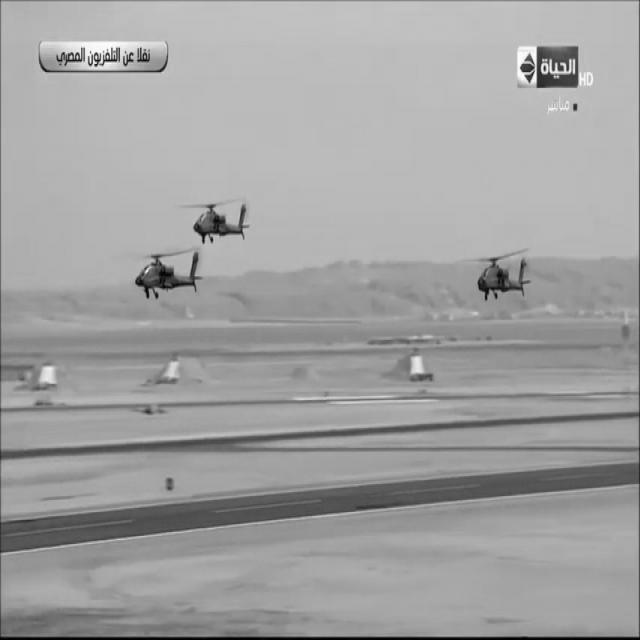helikopter: (456, 236, 546, 319), (128, 243, 199, 310), (192, 188, 262, 254)
